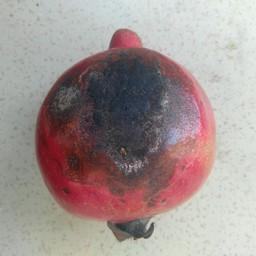Bad_pomegranate: (36, 18, 219, 246)
